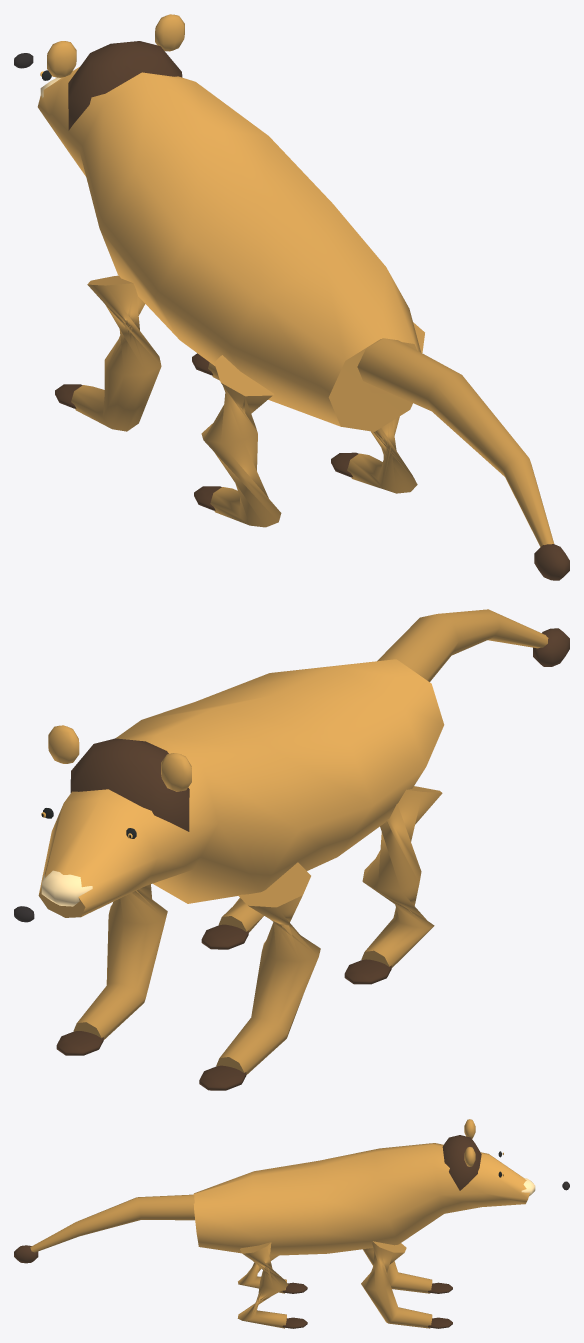
File: lion_mobile.glb
The picture shows the model from 3 angles, top to bottom: view 1: azimuth 30°, elevation 25°; view 2: azimuth 150°, elevation 25°; view 3: azimuth 270°, elevation 25°; orthographic projection. The views are drawn at different scales.
Visible parts, largest first — view 1: LionOrganicBody, Tail, Leg_LF, Leg_LH, ManeRuff, Leg_RH, TailTuft, RoundEar, RoundEar2; view 2: LionOrganicBody, Leg_LF, Leg_RF, Leg_LH, ManeRuff, Tail, Muzzle, RoundEar2, RoundEar, TailTuft, Paw_LH, Paw_RH (+3 smaller); view 3: LionOrganicBody, Tail, Leg_RF, Leg_RH, ManeRuff, Leg_LF, Leg_LH, TailTuft.
Boxes of the visible parts, box(x1,y1,x2,y2) form: LionOrganicBody: box(37, 67, 420, 431); Tail: box(357, 338, 554, 546); Leg_LF: box(71, 275, 161, 431); Leg_LH: box(201, 355, 281, 527); ManeRuff: box(68, 41, 182, 130); Leg_RH: box(347, 322, 424, 493); TailTuft: box(534, 544, 569, 580); RoundEar: box(47, 41, 76, 77); RoundEar2: box(155, 14, 184, 51); LionOrganicBody: box(38, 659, 444, 917); Leg_LF: box(216, 862, 320, 1074); Leg_RF: box(73, 884, 167, 1039); Leg_LH: box(361, 786, 442, 967); ManeRuff: box(70, 738, 189, 831); Tail: box(377, 609, 548, 681); Muzzle: box(41, 870, 92, 906); RoundEar2: box(48, 725, 79, 763); RoundEar: box(161, 753, 191, 791); TailTuft: box(533, 628, 569, 666); Paw_LH: box(344, 959, 391, 984); Paw_RH: box(201, 924, 248, 949); LionOrganicBody: box(193, 1143, 529, 1255); Tail: box(30, 1194, 194, 1252); Leg_RF: box(361, 1241, 432, 1328); Leg_RH: box(237, 1242, 288, 1328); ManeRuff: box(442, 1135, 481, 1190); Leg_LF: box(363, 1248, 432, 1293); Leg_LH: box(238, 1255, 286, 1293); TailTuft: box(14, 1245, 38, 1263).
Size of the model in its own units: 1.44 by 2.29 by 6.5.
